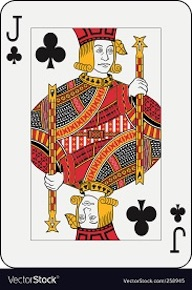JackOfClubs: (1, 1, 192, 268)
